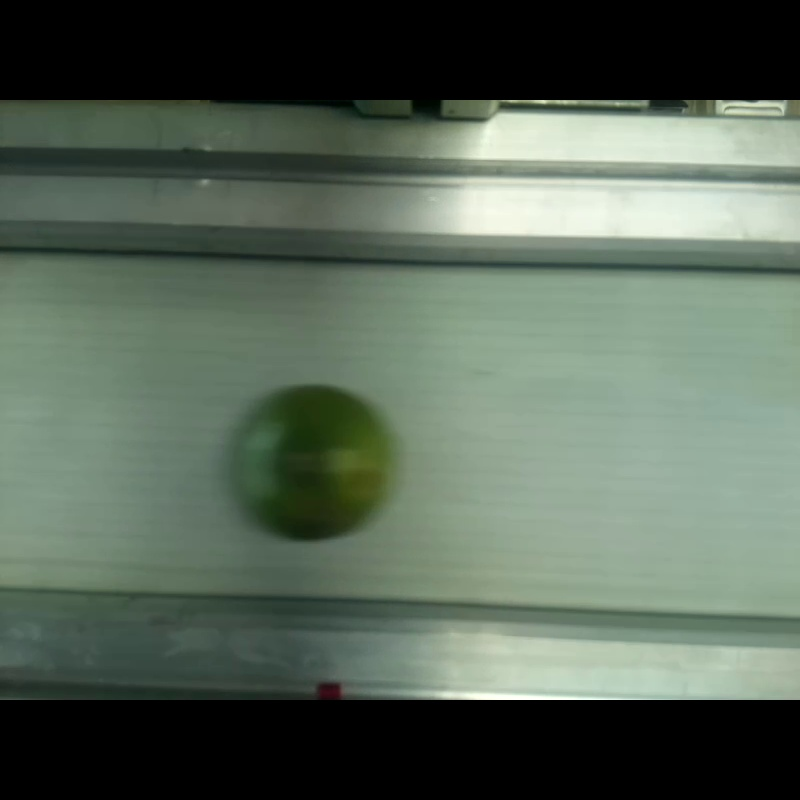lime: (238, 383, 391, 542)
